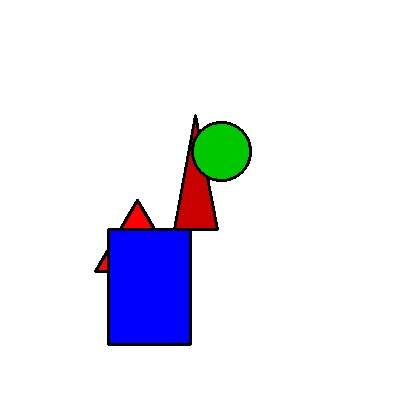circle: (180, 122, 262, 181)
rectangle: (108, 229, 190, 344)
triangle: (95, 200, 179, 271), (174, 115, 217, 229)
